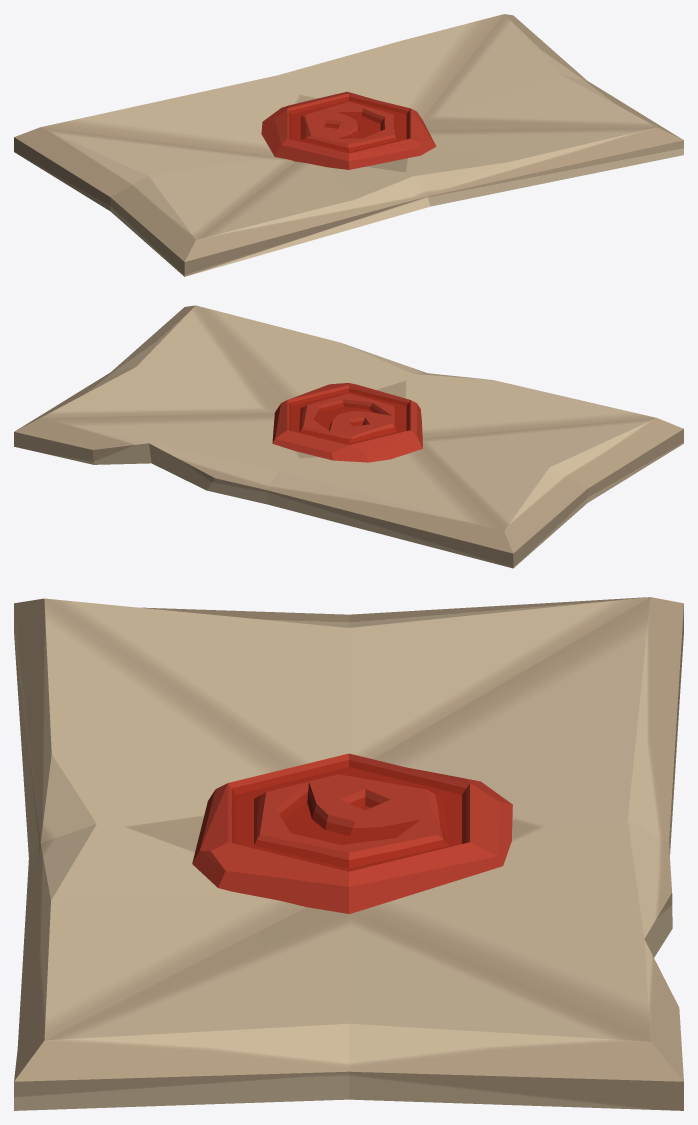
The model's file is SM_Prop_Letter_01.fbx.
The picture shows the model from 3 angles, top to bottom: view 1: azimuth 30°, elevation 25°; view 2: azimuth 150°, elevation 25°; view 3: azimuth 270°, elevation 25°; orthographic projection. The views are drawn at different scales.
Parts seen in each view (by area): view 1: SM_Prop_Letter_01; view 2: SM_Prop_Letter_01; view 3: SM_Prop_Letter_01.
Part boxes in pixels (box(x1,y1,x2,y2)): SM_Prop_Letter_01: box(14, 14, 683, 276); SM_Prop_Letter_01: box(14, 305, 683, 568); SM_Prop_Letter_01: box(14, 597, 683, 1110).
Size of the model in its own units: 30.14 by 1.74 by 17.84.
1 material, 1 textured.
